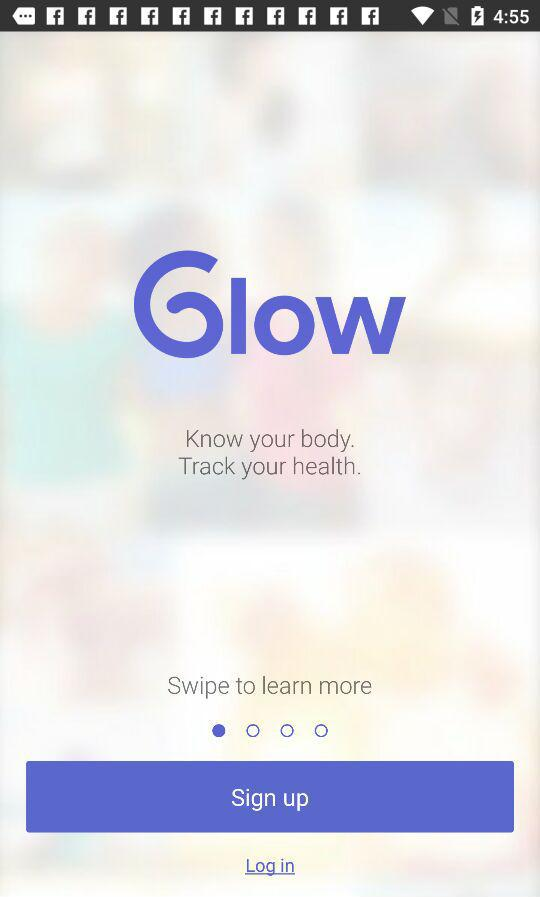Image: (133, 249, 408, 360)
PageIndicator: (211, 722, 330, 740)
Text: (178, 428, 362, 481), (167, 675, 373, 701), (245, 858, 297, 877)
TextButton: (27, 761, 514, 833)
UpperTaskBar: (1, 1, 540, 33)
